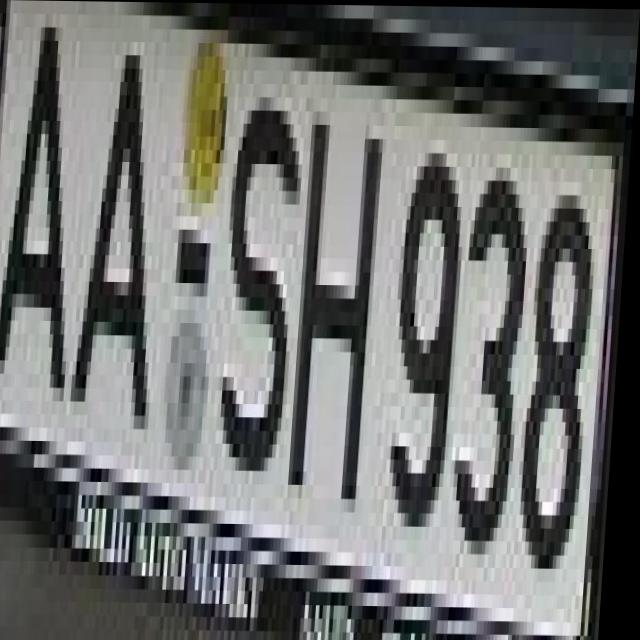3: (457, 192, 530, 553)
8: (520, 166, 600, 581)
9: (382, 125, 468, 526)
A: (0, 40, 95, 415), (75, 81, 169, 416)
H: (295, 84, 395, 485)
S: (213, 96, 297, 457)
